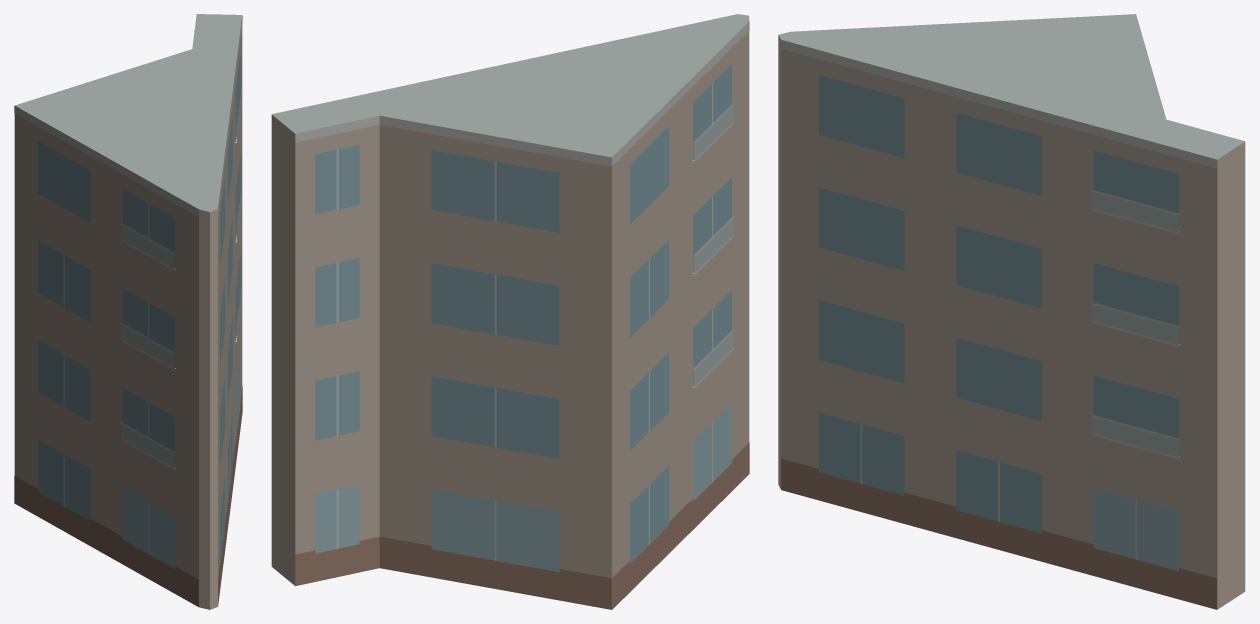
The model's file is residential-e9494ee2-bae4-4459-ae13-5d8d2fcb2f7a.glb.
The picture shows the model from 3 angles, left to right: view 1: azimuth 30°, elevation 25°; view 2: azimuth 150°, elevation 25°; view 3: azimuth 270°, elevation 25°; orthographic projection. The views are drawn at different scales.
Visible parts, largest first — view 1: residential-e9494ee2-bae4-4459-ae13-5d8d2fcb2f7a.tmp; view 2: residential-e9494ee2-bae4-4459-ae13-5d8d2fcb2f7a.tmp; view 3: residential-e9494ee2-bae4-4459-ae13-5d8d2fcb2f7a.tmp.
Boxes of the visible parts, x1=… form: residential-e9494ee2-bae4-4459-ae13-5d8d2fcb2f7a.tmp: x1=14, y1=14, x2=242, y2=609; residential-e9494ee2-bae4-4459-ae13-5d8d2fcb2f7a.tmp: x1=271, y1=14, x2=749, y2=609; residential-e9494ee2-bae4-4459-ae13-5d8d2fcb2f7a.tmp: x1=778, y1=14, x2=1245, y2=609.
Bounding box in the file's own units: 8.47 × 12.2 × 11.47.
